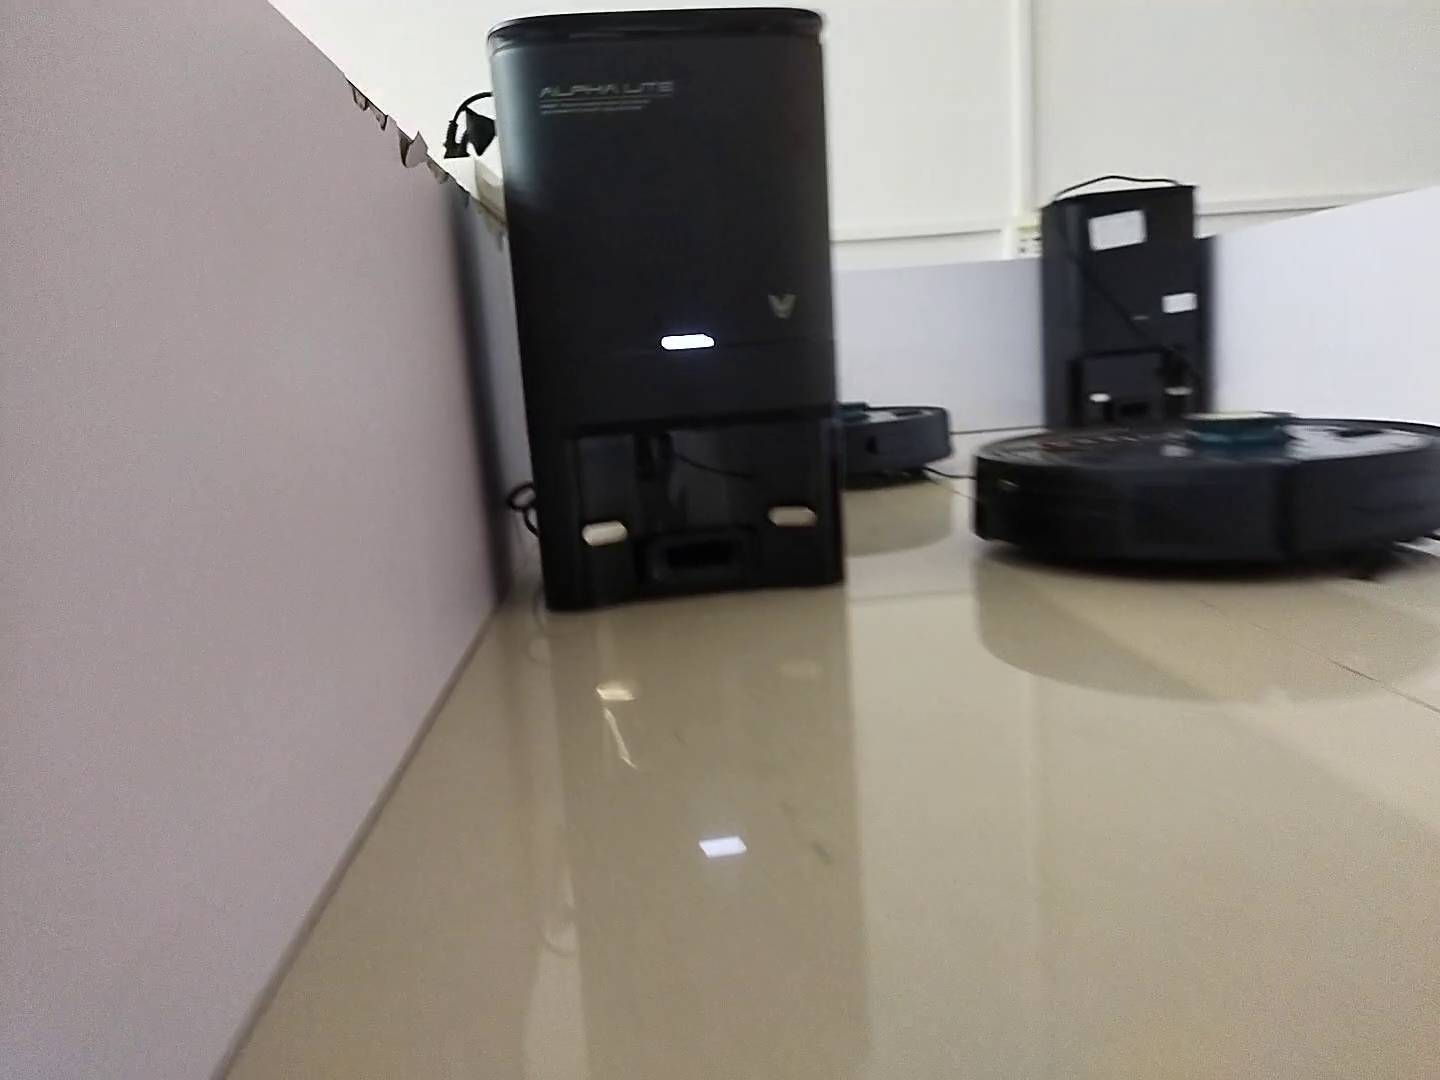dust collecting barrel: (488, 8, 848, 615), (1041, 187, 1198, 427)
